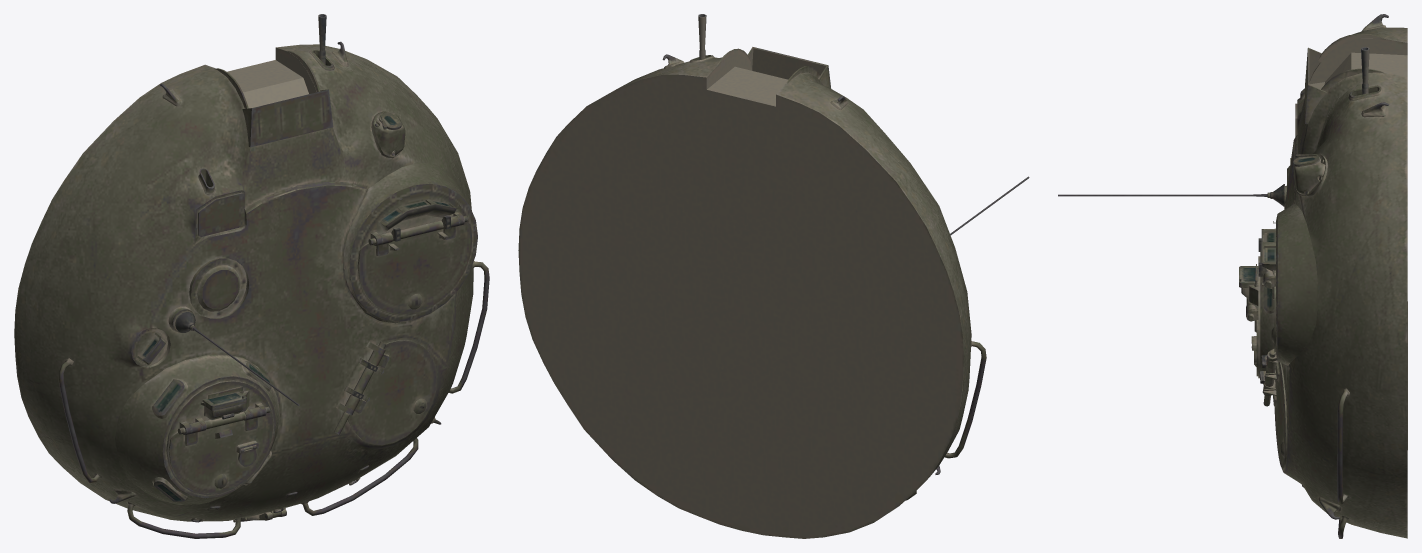
The model's file is Turret_01.glb.
3 renders of one model, left to right at view 1: azimuth 30°, elevation 25°; view 2: azimuth 150°, elevation 25°; view 3: azimuth 270°, elevation 25°, orthographic.
Parts seen in each view (by area): view 1: set_0_group_0; view 2: set_0_group_0; view 3: set_0_group_0.
Boxes of the visible parts, box(x1,y1,x2,y2) form: set_0_group_0: box(14, 14, 489, 538); set_0_group_0: box(518, 14, 1029, 538); set_0_group_0: box(1058, 14, 1407, 538).
Size of the model in its own units: 2.48 by 2.61 by 1.67.
Materials: 1 (1 with a texture image).
